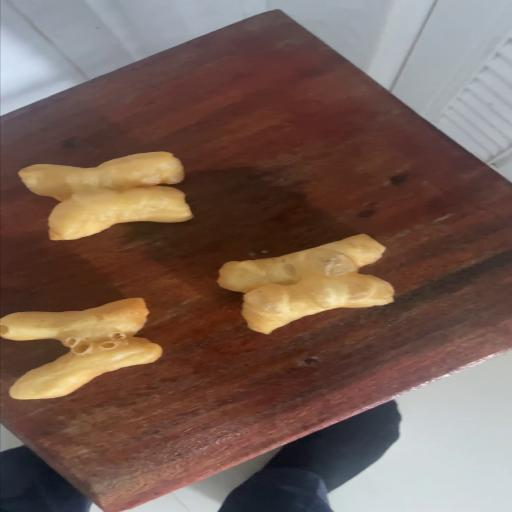street_golden_defect: (216, 235, 393, 332), (0, 299, 161, 398)
street_golden_good: (20, 151, 192, 241)
